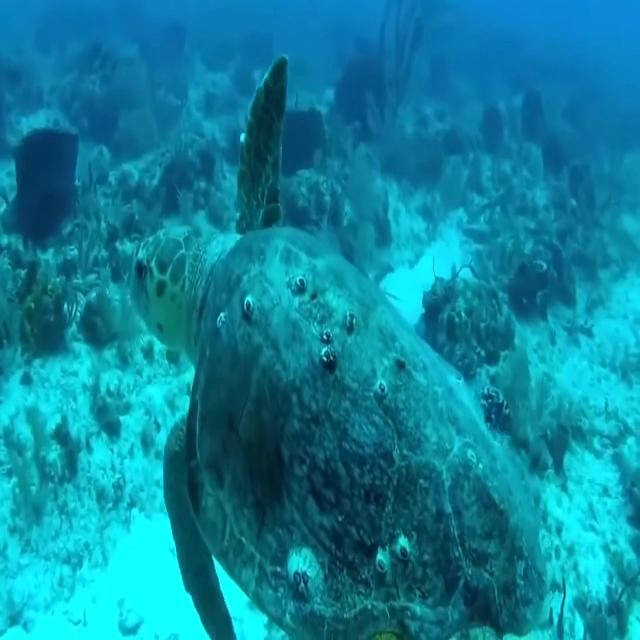Sea turtle: (129, 53, 553, 640)
